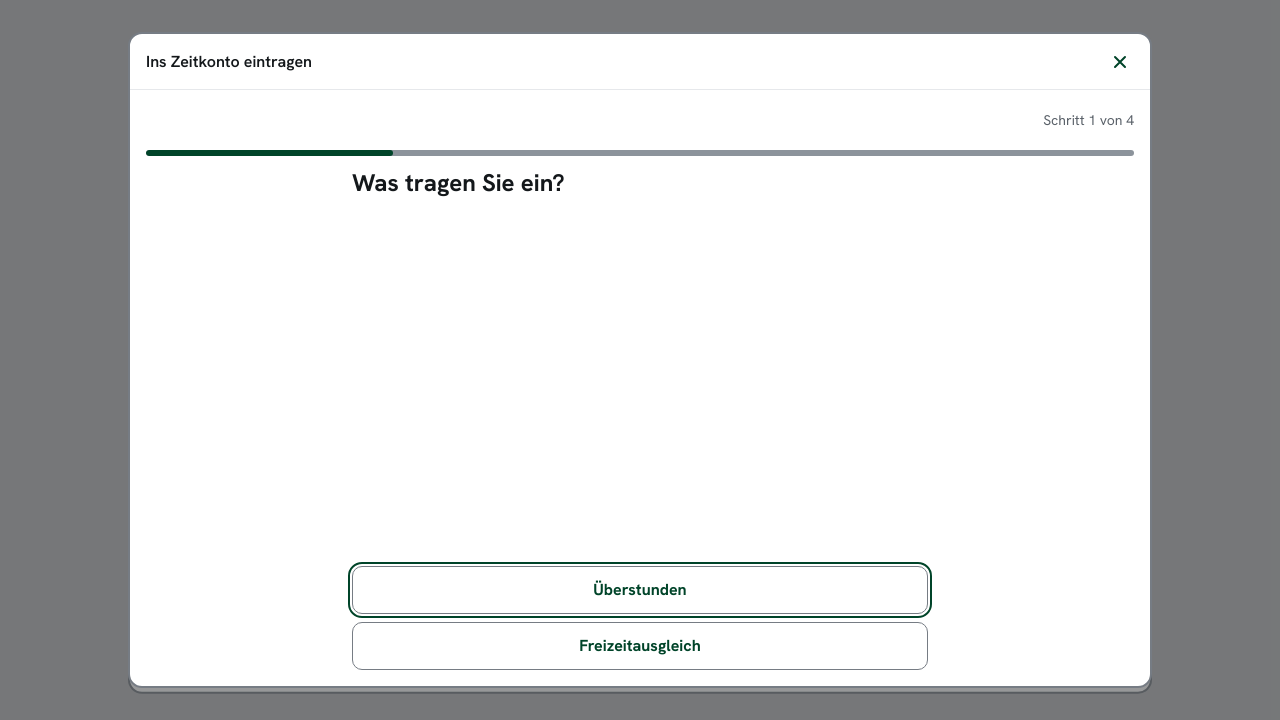
RecordTimeAccountPage › sperrt das Eintragen, wenn der Server einen Grund nennt
Click the button "Überstunden": (640, 590) [352, 566, 928, 614]
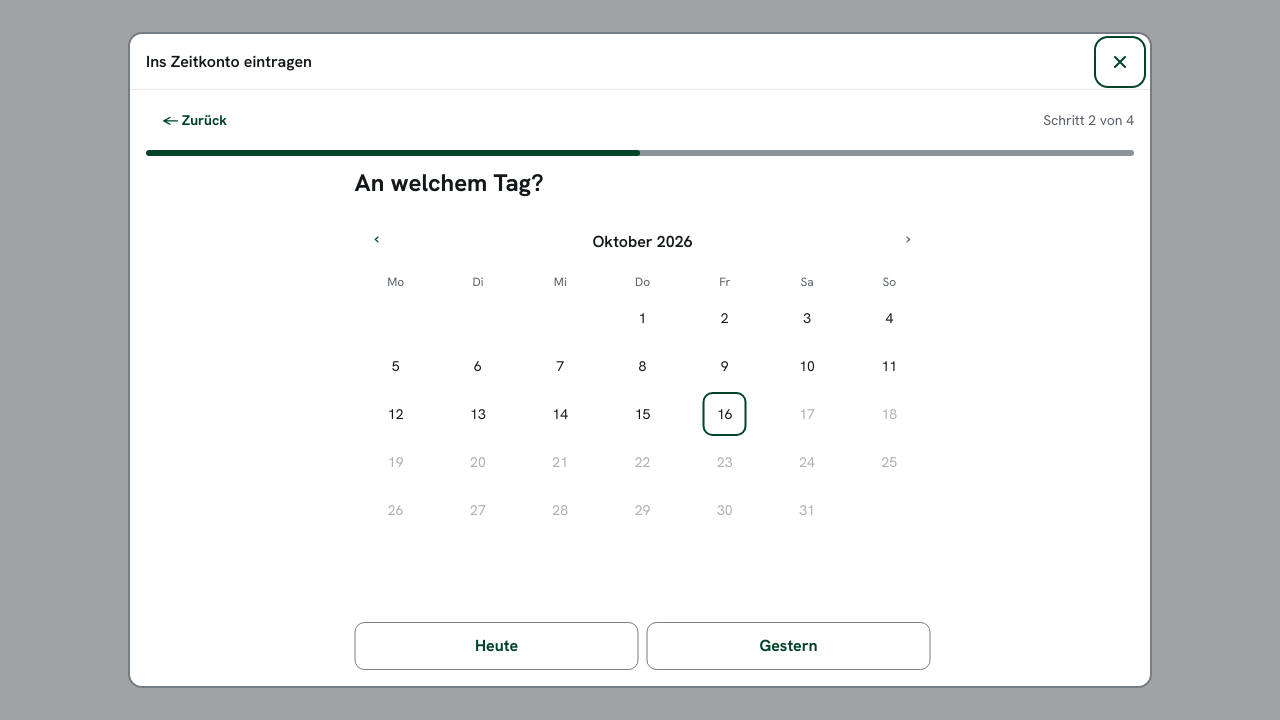
Click the button "Gestern": (786, 646) [644, 622, 928, 670]
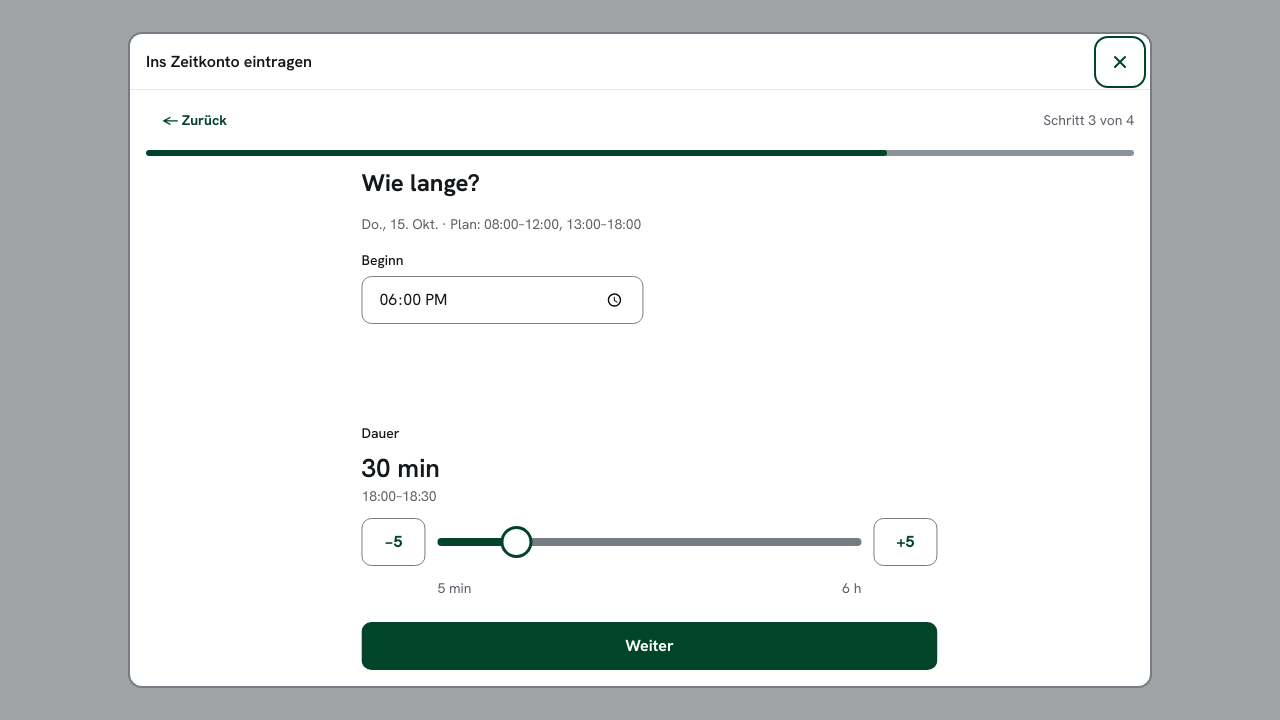
Replace the text in the time field labelled "Beginn" with "17:00": (494, 300) [353, 276, 635, 324]
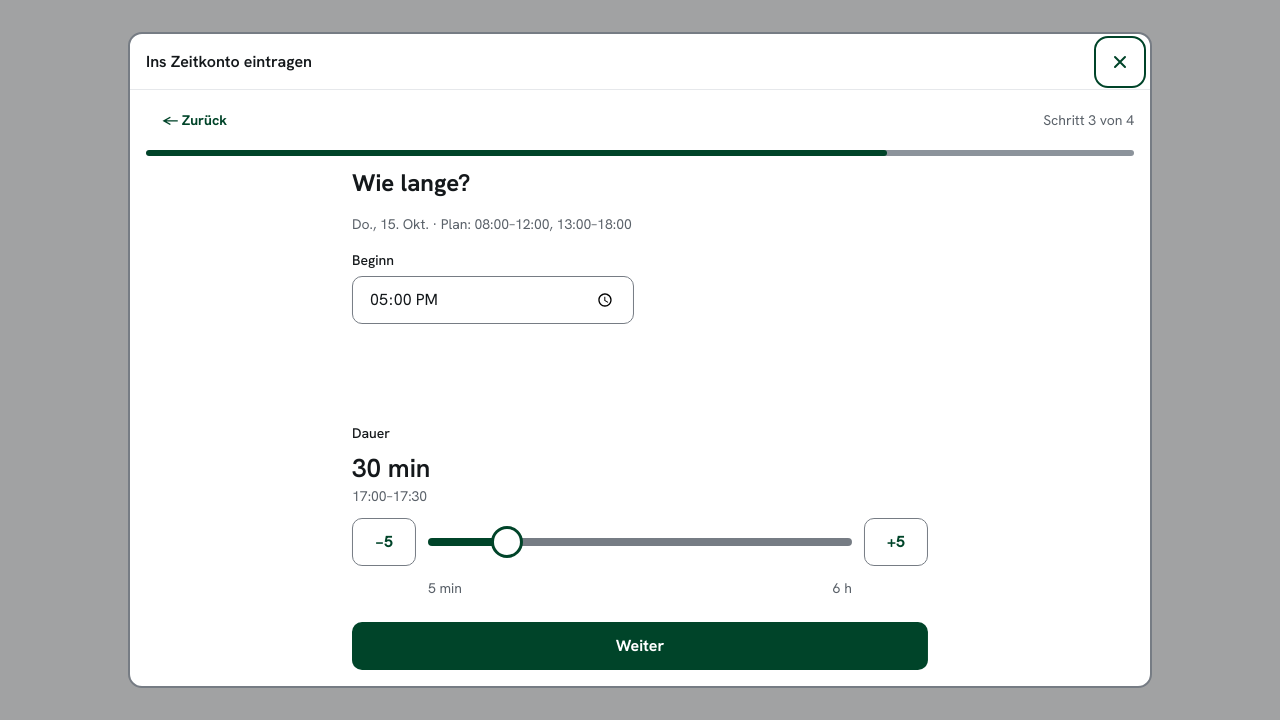
Set the slider labelled "Dauer" to "11": (581, 542) [428, 518, 852, 566]
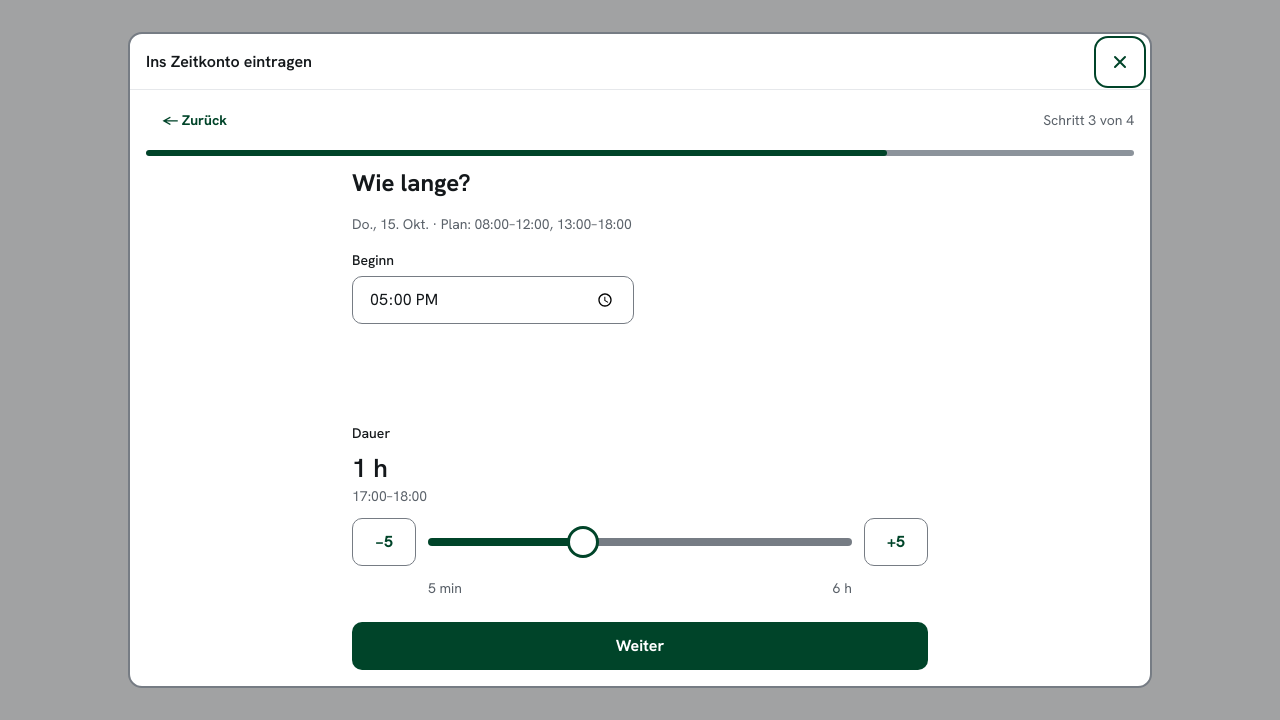
Click the button "Weiter": (640, 646) [352, 622, 928, 670]
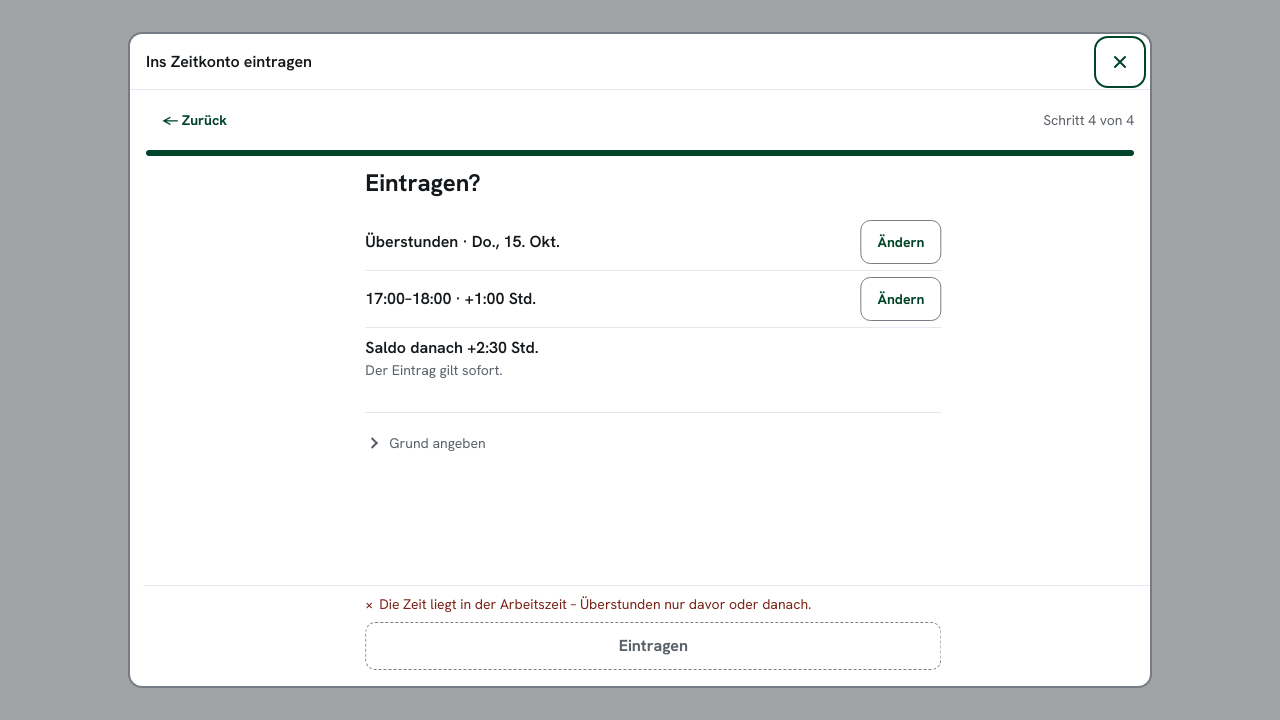
Check: the text "Die Zeit liegt in der Arbeitszeit – Überstunden nur davor oder danach." is shown, box [367, 595, 800, 613]
Check: the button "Eintragen" is disabled, box [353, 622, 929, 670]
